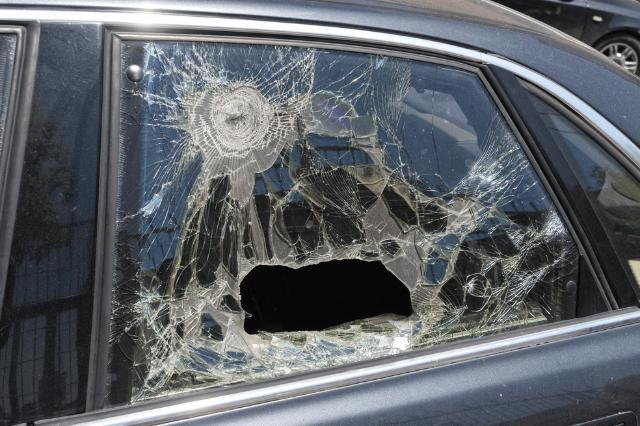Door: (100, 25, 640, 426)
